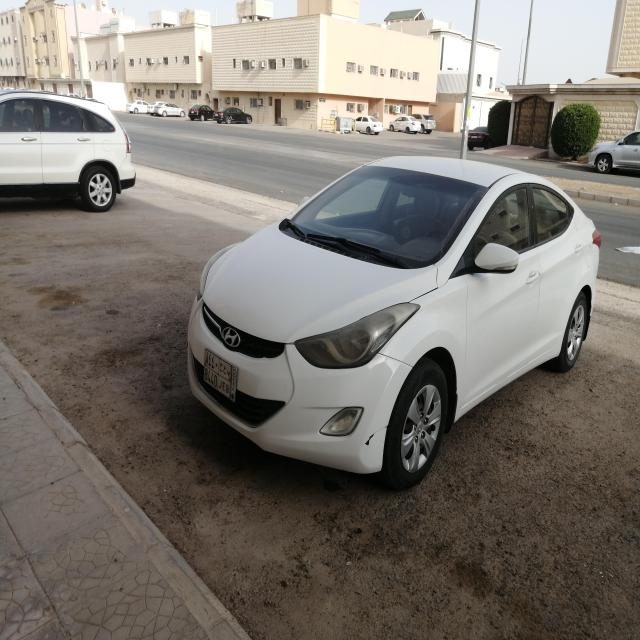license_plate: (202, 347, 238, 404)
